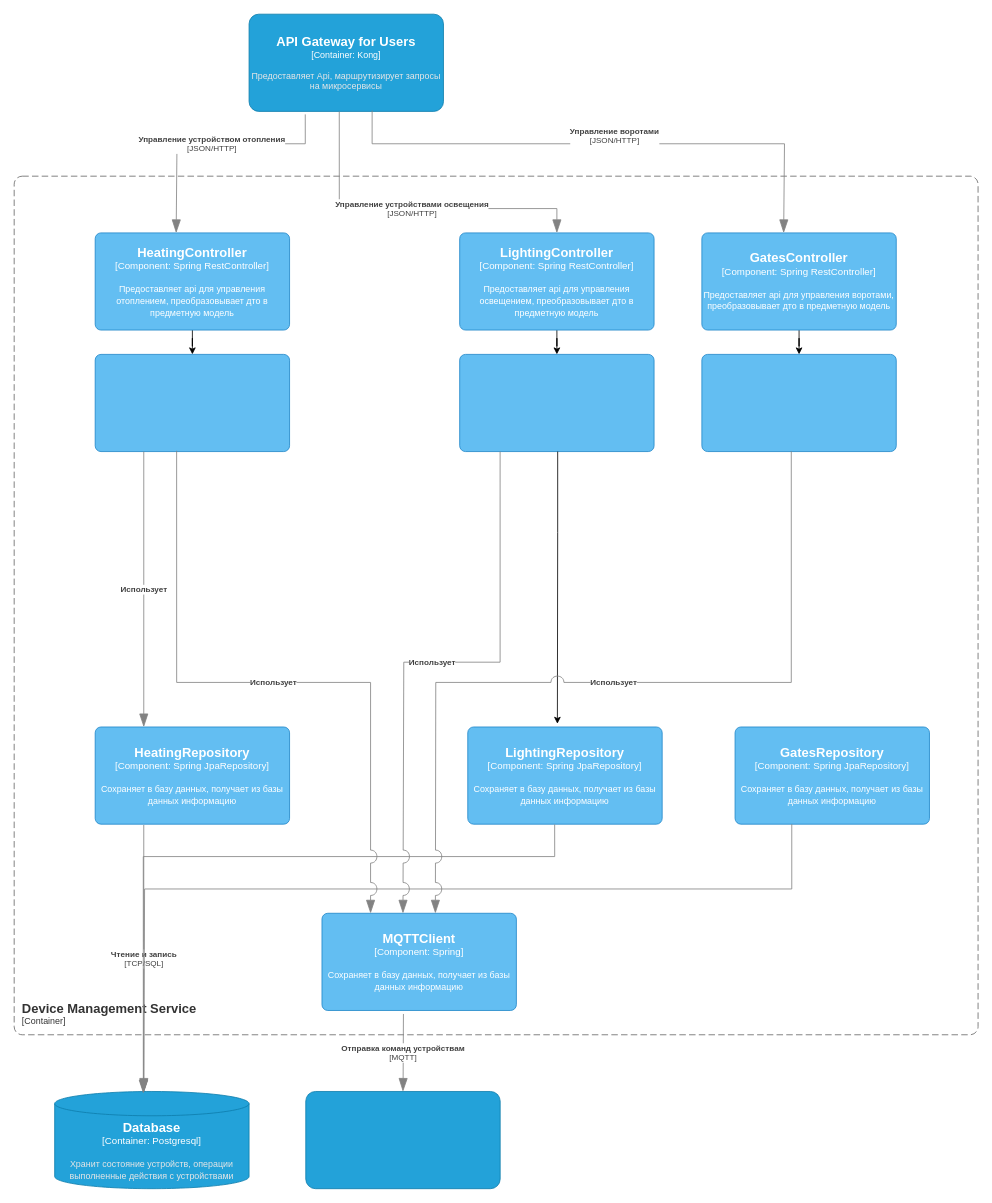
Some shapes in this 992 by 1203 pixel diagram are drawn without their labels. The shapes that lost their labels are listed below. From the top down, each one's centre as x and y in pixels, then its label:
At point 192,403: "HeatingService [Component: Spring bean] Сервис управления отоплением".
At point 556,403: "LightingService [Component: Spring bean] Сервис управления освещением".
At point 798,403: "GatesService [Component: Spring bean] Сервис управления воротами".
At point 402,1140: "MQTT Broker [Container: MQTT Broker] Аутентификация и авторизация".
